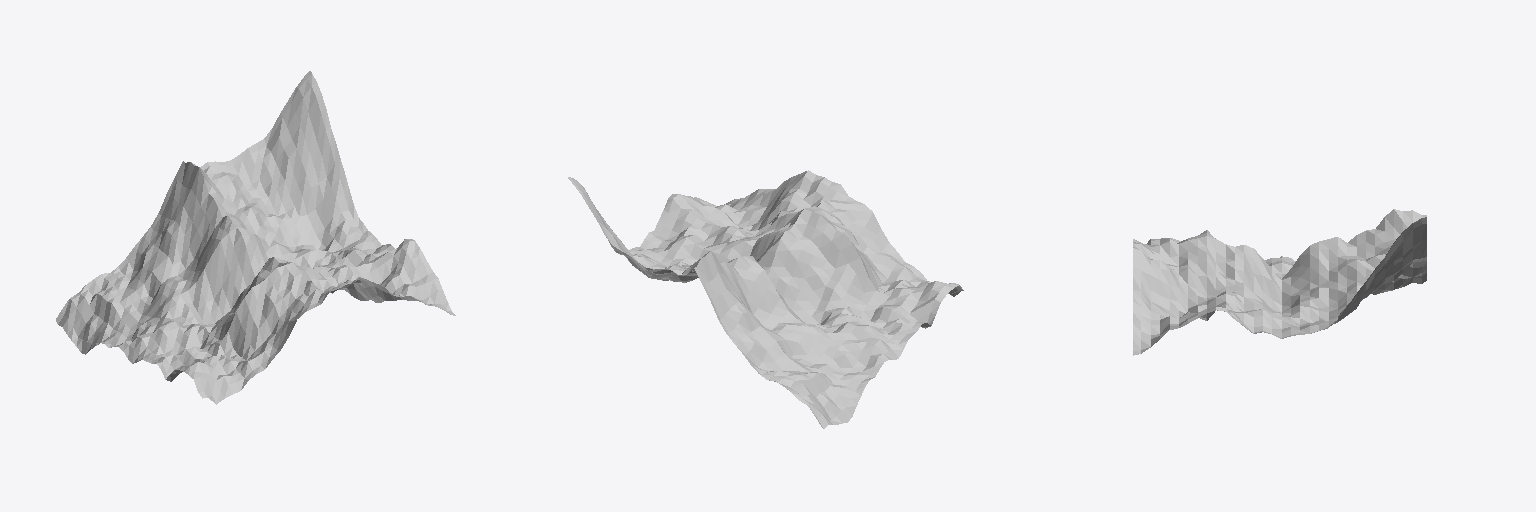
File: terrain_-2_0.obj
The picture shows the model from 3 angles: view 1: azimuth 30°, elevation 25°; view 2: azimuth 150°, elevation 25°; view 3: azimuth 270°, elevation 25°; orthographic projection.
Visible parts, largest first — view 1: terrain_-2_0_Plane.070; view 2: terrain_-2_0_Plane.070; view 3: terrain_-2_0_Plane.070.
Boxes of the visible parts, <box> form: terrain_-2_0_Plane.070: <box>56,71,455,404</box>; terrain_-2_0_Plane.070: <box>568,170,963,428</box>; terrain_-2_0_Plane.070: <box>1133,209,1426,355</box>.
Size of the model in its own units: 32 by 24.29 by 32.